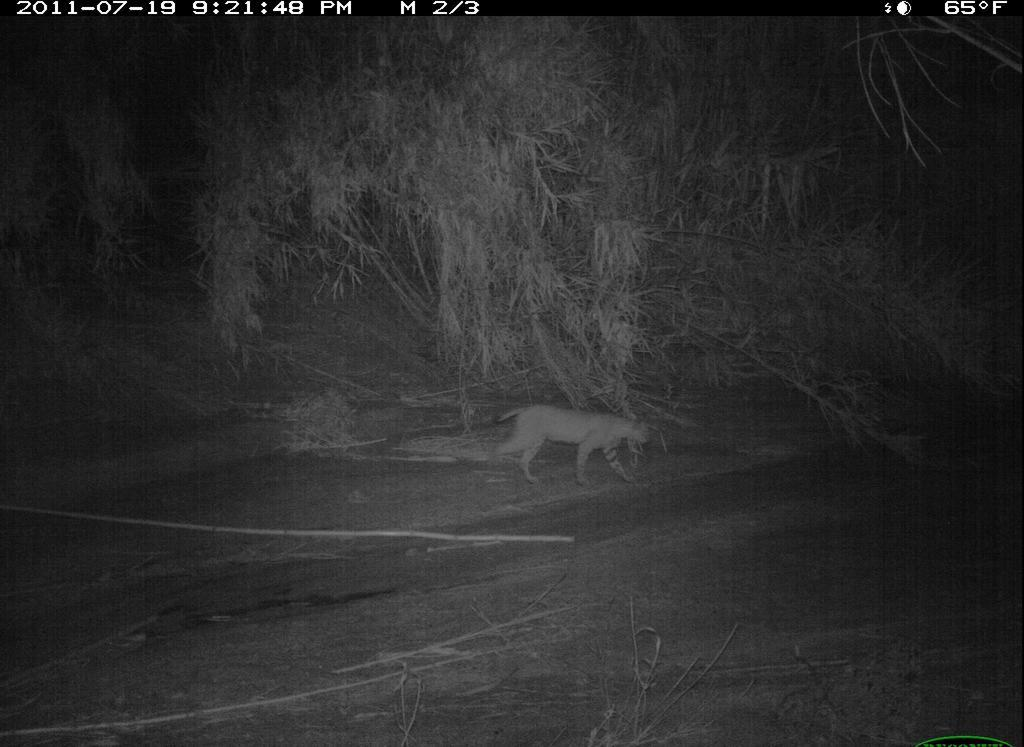bobcat: (479, 401, 659, 491)
